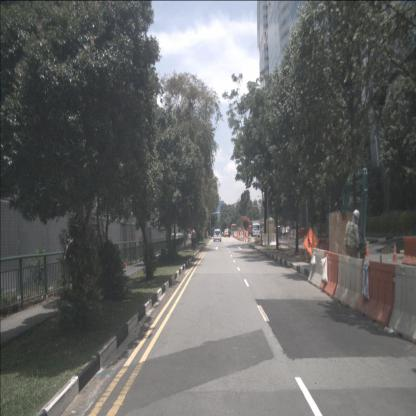human-pedestrian-adult: (190, 226, 196, 251)
movable_object-barrier: (355, 259, 400, 328), (388, 264, 416, 345), (333, 254, 366, 312), (320, 251, 341, 299), (308, 248, 326, 289), (401, 237, 416, 266), (262, 233, 276, 246), (258, 233, 263, 246), (234, 230, 244, 236), (313, 226, 318, 236), (300, 228, 305, 238), (304, 228, 308, 236), (290, 230, 294, 238), (294, 229, 297, 238), (284, 227, 288, 233), (292, 231, 295, 239), (288, 230, 291, 237)
movable_object-trafficcone: (391, 244, 398, 262), (365, 241, 370, 257), (247, 235, 250, 243), (242, 234, 245, 241), (287, 236, 290, 243), (281, 235, 284, 241), (256, 233, 258, 241), (244, 235, 246, 242)
vehicle-car: (287, 224, 300, 233), (213, 229, 222, 242), (274, 226, 282, 235), (224, 228, 230, 238)
vehicle-truck: (251, 220, 261, 238)
